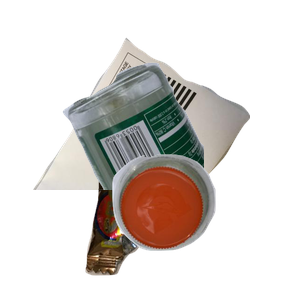glass: (60, 60, 300, 240)
paper: (31, 35, 271, 215)
plastic: (110, 152, 300, 300)
trash: (83, 160, 233, 300)
